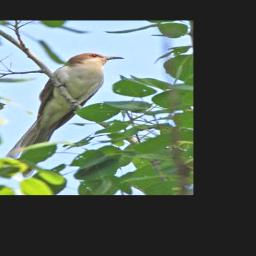Cuckoo: (1, 52, 125, 178)
